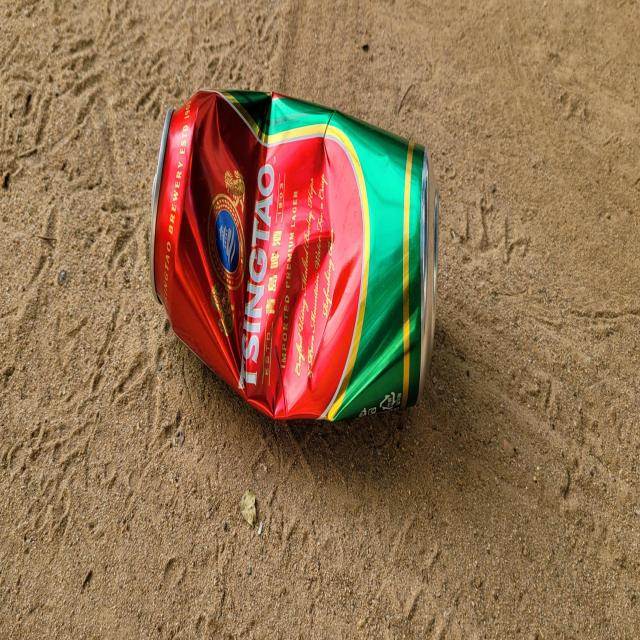can: (150, 89, 439, 419)
